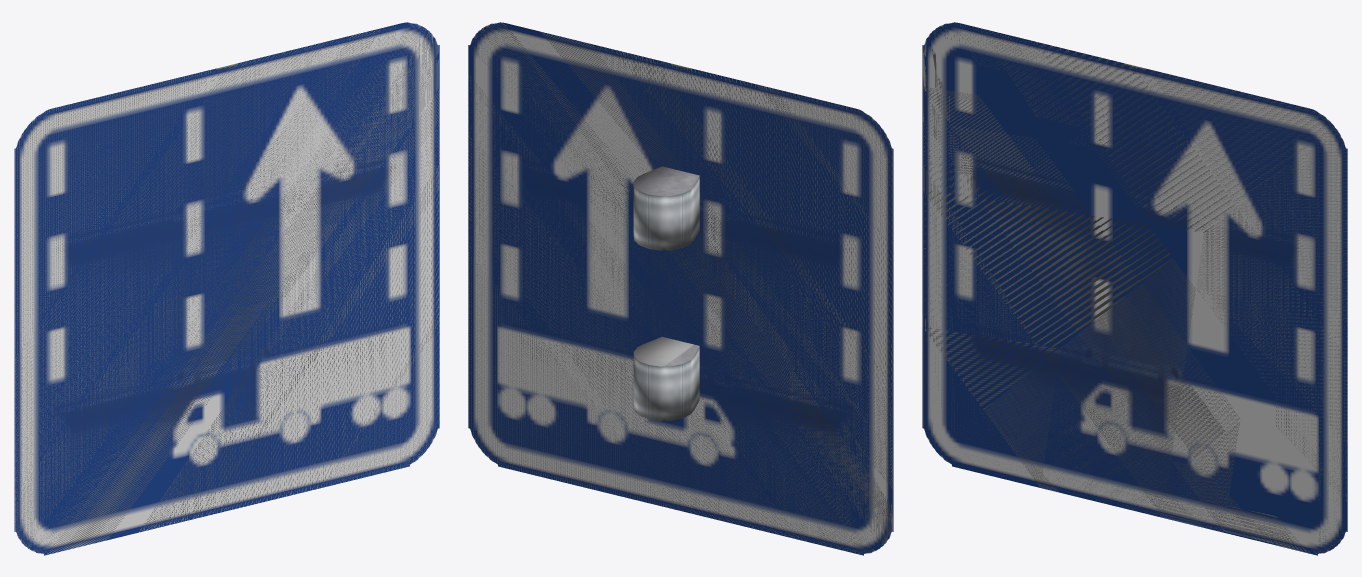
Rendered from Parts_Plate_Square600.fbx.
The picture shows the model from 3 angles, left to right: view 1: azimuth 30°, elevation 25°; view 2: azimuth 150°, elevation 25°; view 3: azimuth 330°, elevation 25°; orthographic projection.
Visible parts, largest first — view 1: 952_plate_square600; view 2: 952_plate_square600; view 3: 952_plate_square600.
Boxes of the visible parts, box(x1,y1,x2,y2) form: 952_plate_square600: box(14, 22, 439, 555); 952_plate_square600: box(468, 22, 893, 555); 952_plate_square600: box(922, 22, 1347, 555).
Bounding box in the file's own units: 0.6 × 0.6 × 0.0788.
